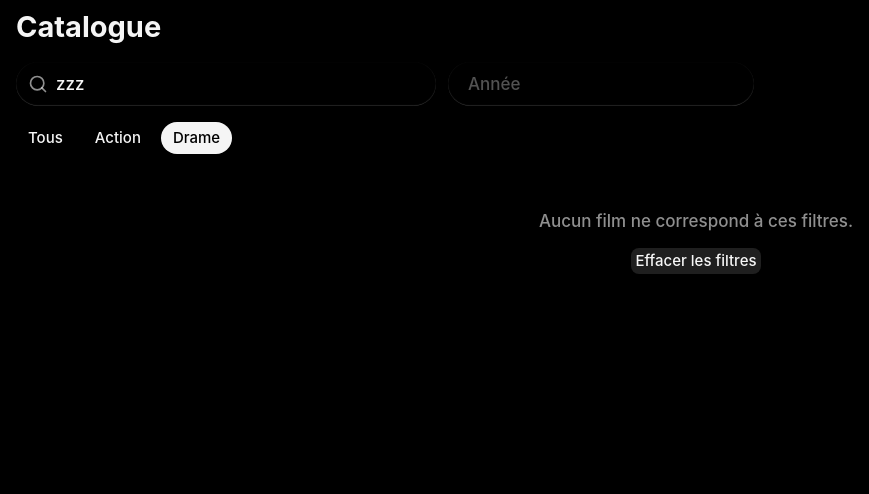
filtres du catalogue (spec 09) › signale l'absence de résultat et permet d'effacer les filtres
Click the link "Effacer les filtres".
click(696, 261)  # box [632, 248, 761, 274]
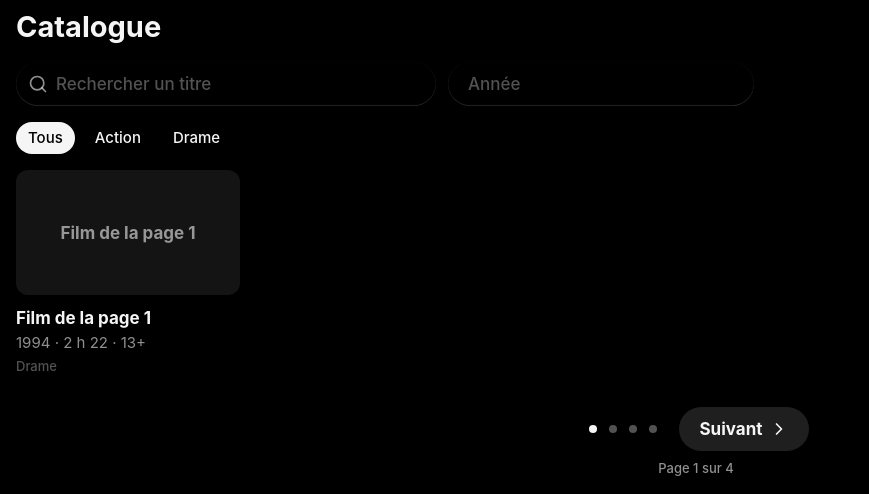
Result: the text "Page 1 sur 4" is shown at [658, 459, 734, 477]
Result: the search field labelled "Rechercher un titre" is empty at [56, 73, 416, 95]
